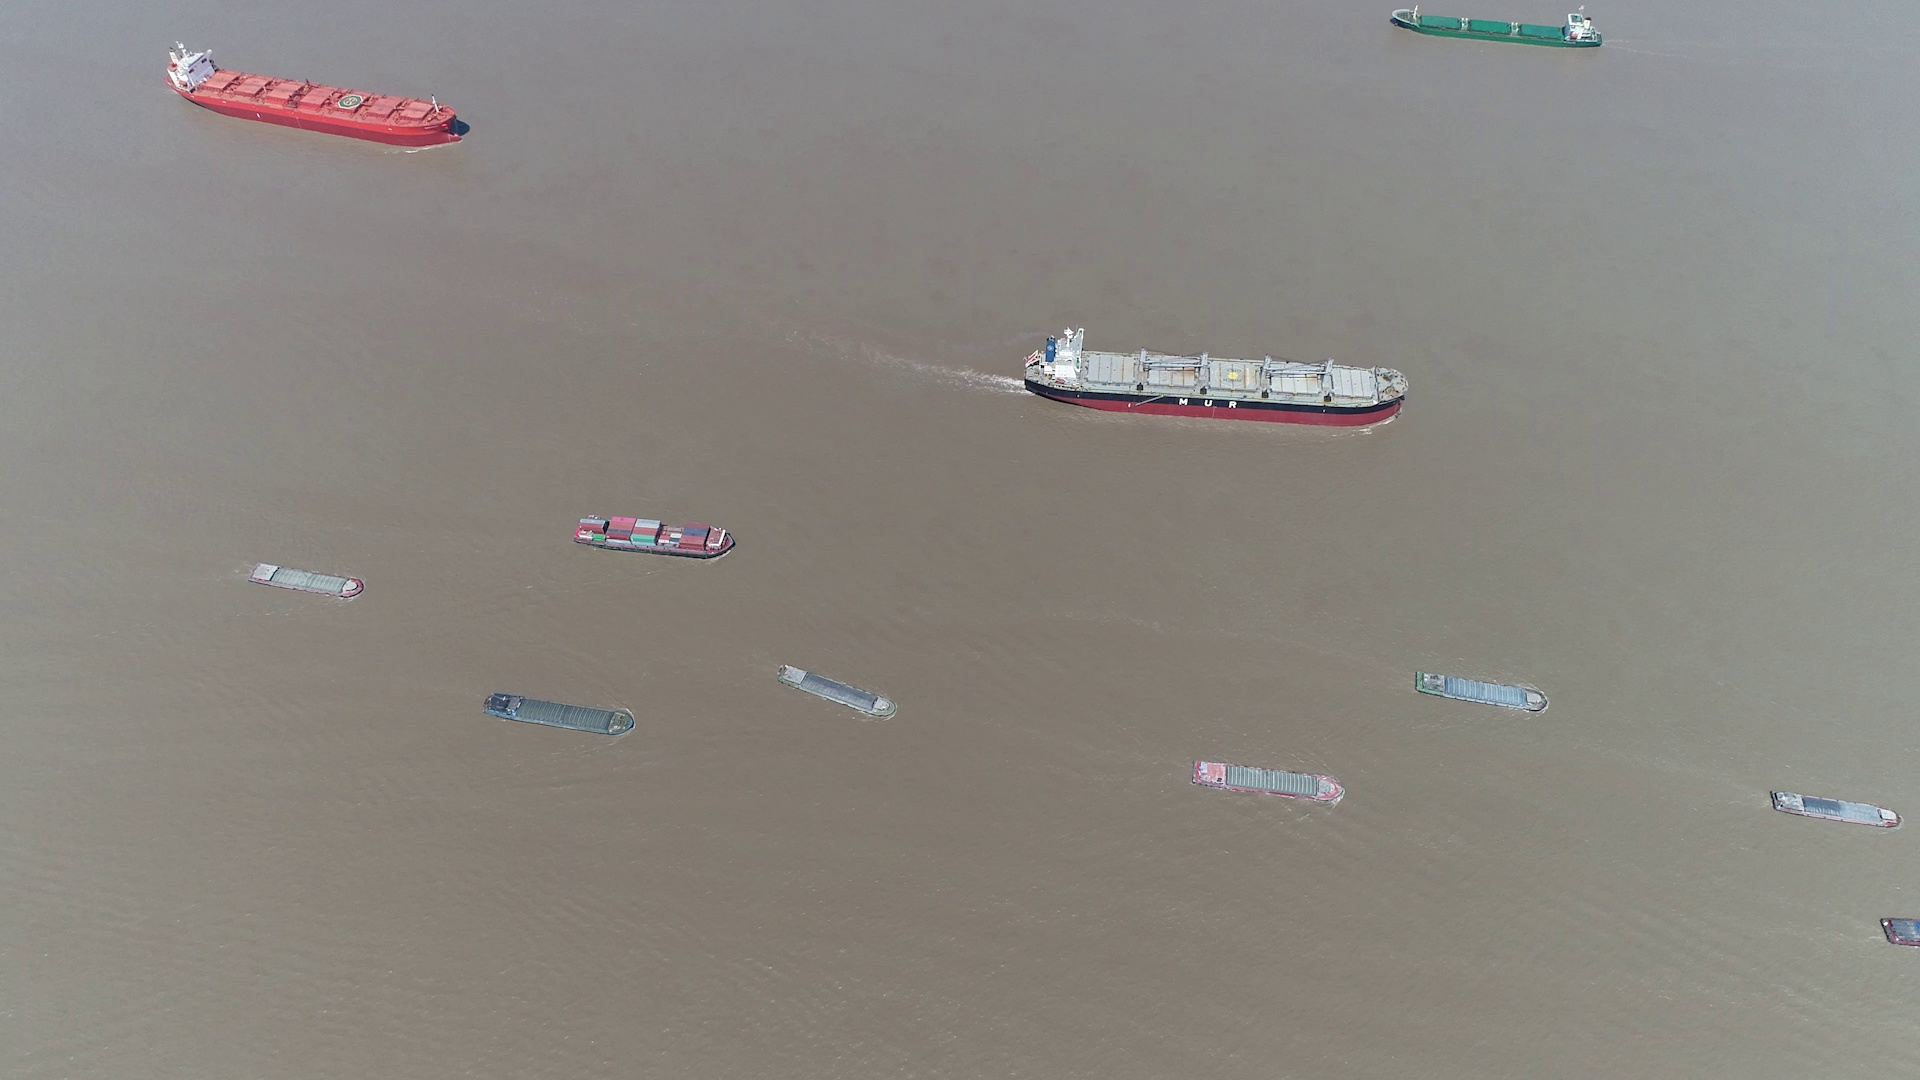ship: (1027, 334, 1408, 427), (164, 40, 467, 146), (1389, 11, 1598, 47), (571, 514, 736, 558), (485, 691, 637, 737), (778, 665, 895, 720), (1193, 760, 1345, 800), (1414, 673, 1549, 713), (1770, 789, 1902, 827), (251, 563, 364, 599), (1880, 919, 1917, 948)
